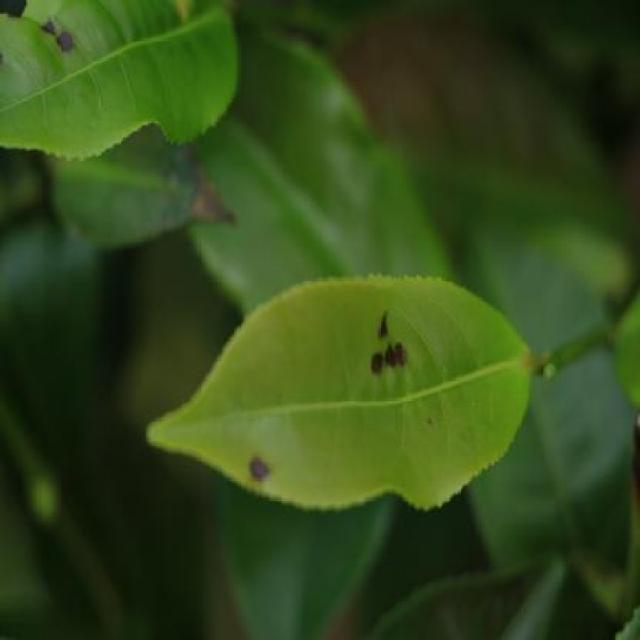Tea Mosquito bug infested leaf: (166, 280, 503, 514), (0, 11, 111, 163)
